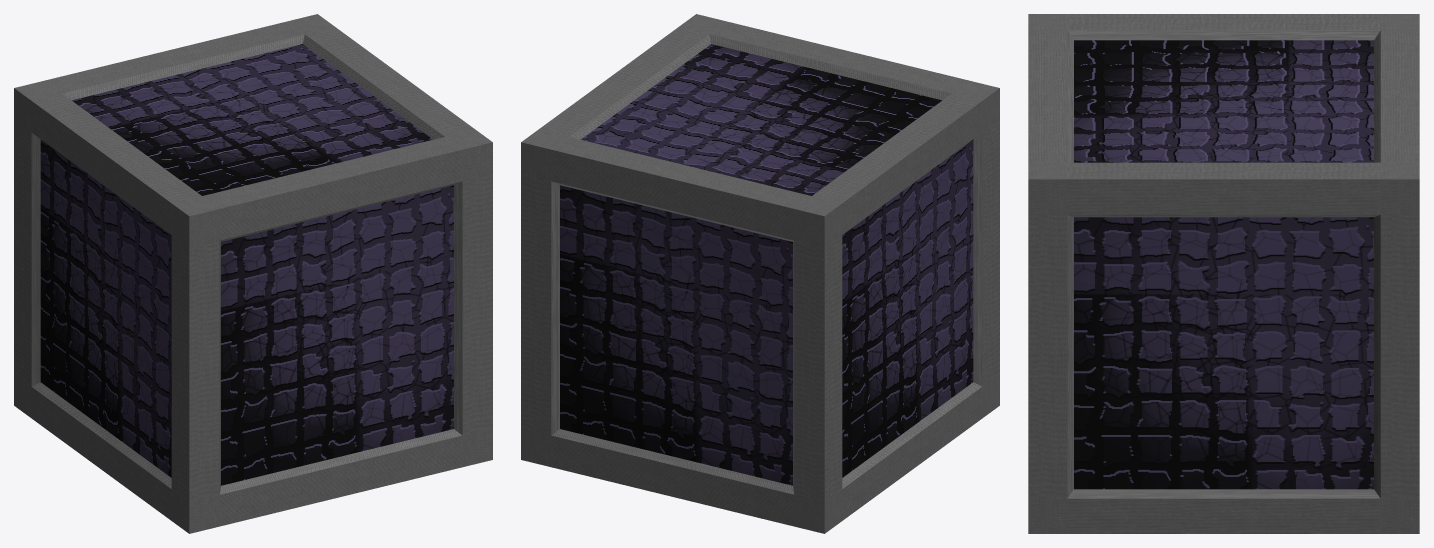
File: BonberMan_Block.fbx
3 views of the same model, side by side, from view 1: azimuth 30°, elevation 25°; view 2: azimuth 150°, elevation 25°; view 3: azimuth 270°, elevation 25° (orthographic). The views are drawn at different scales.
Visible parts, largest first — view 1: pCube15; view 2: pCube15; view 3: pCube15.
Part boxes in pixels (left/top/right/bottom): pCube15: left=14, top=14, right=492, bottom=533; pCube15: left=521, top=14, right=999, bottom=533; pCube15: left=1028, top=14, right=1419, bottom=533.
Bounding box in the file's own units: 1 × 1 × 1.
